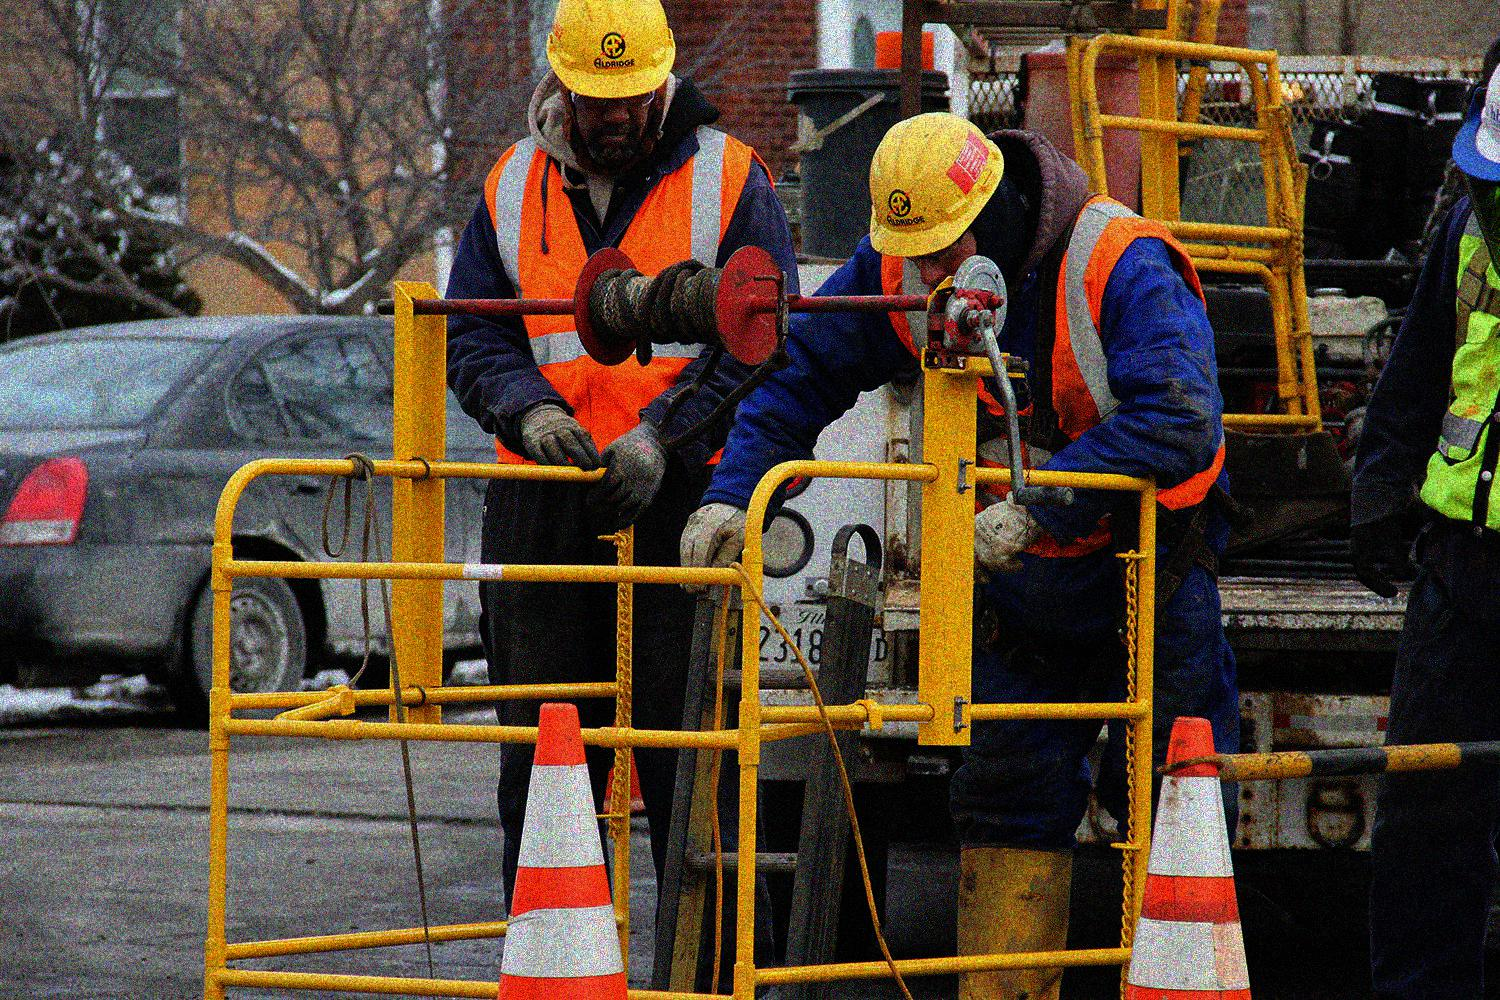helmet: (862, 109, 1022, 299), (538, 1, 690, 171)
